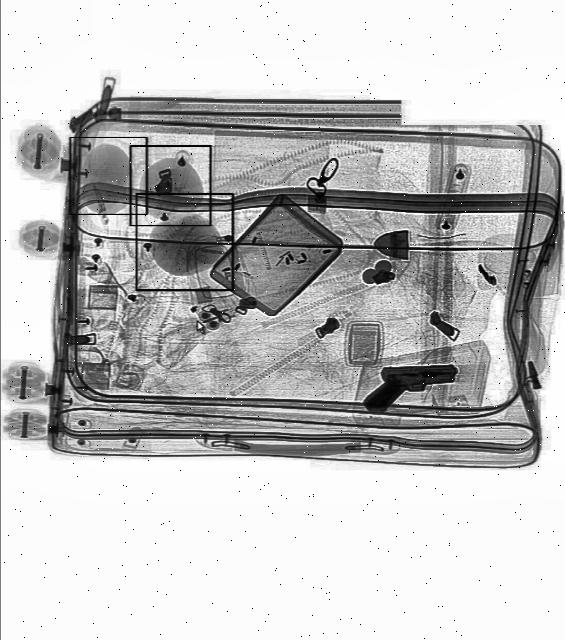Gun: (362, 365, 454, 413)
